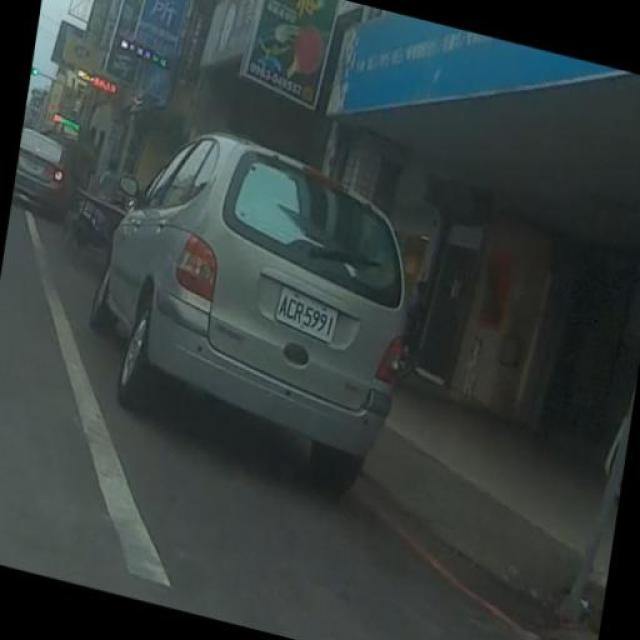illegalparking: (85, 133, 473, 485)
